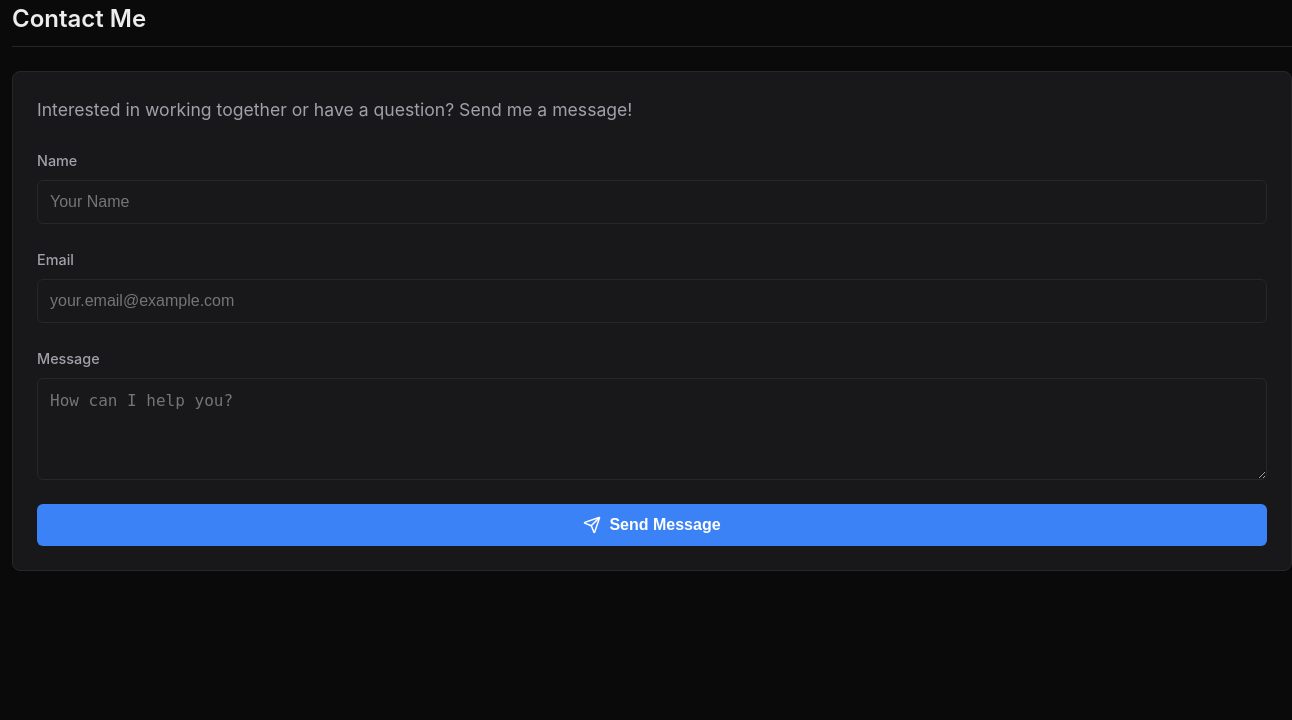
Scenario: Contact Component › shows success message on successful form submission
Type "John Doe" into the field with test id "contact-name".
click(652, 202); type("John Doe")  # box [37,180,1267,224]
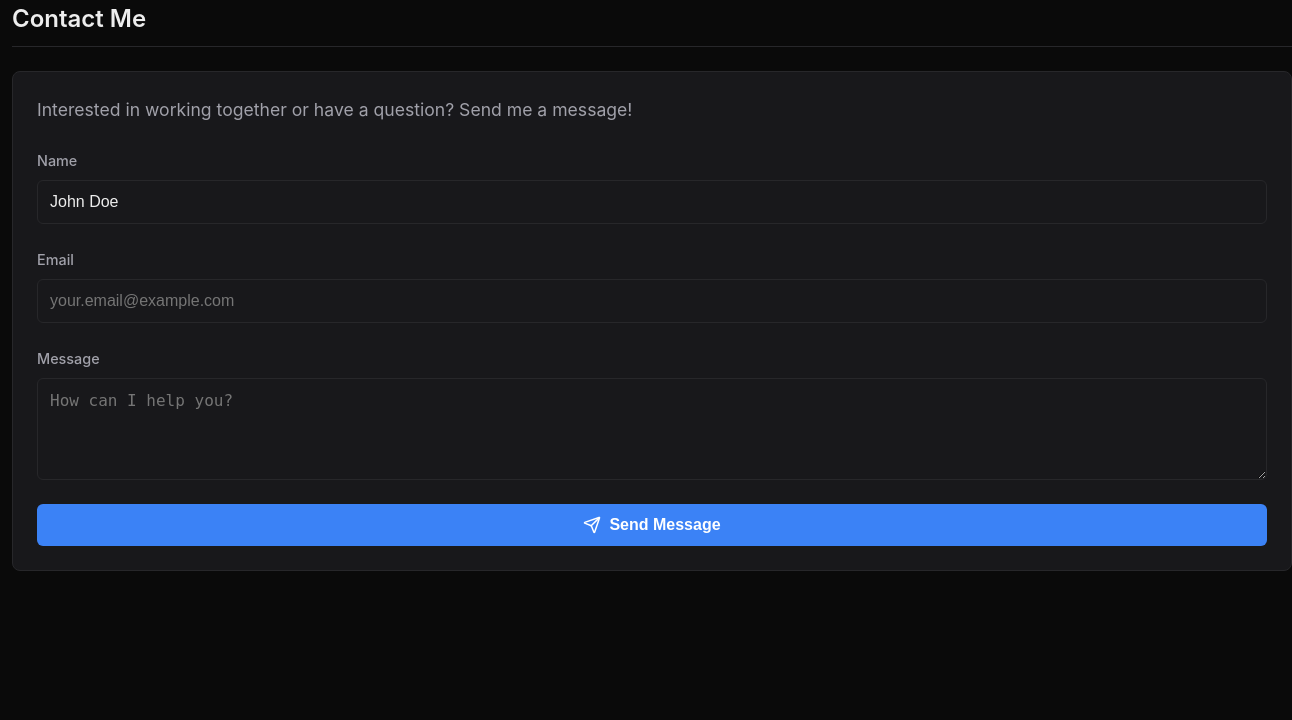
Type "john@example.com" into the field with test id "contact-email".
click(652, 301); type("john@example.com")  # box [37,279,1267,323]
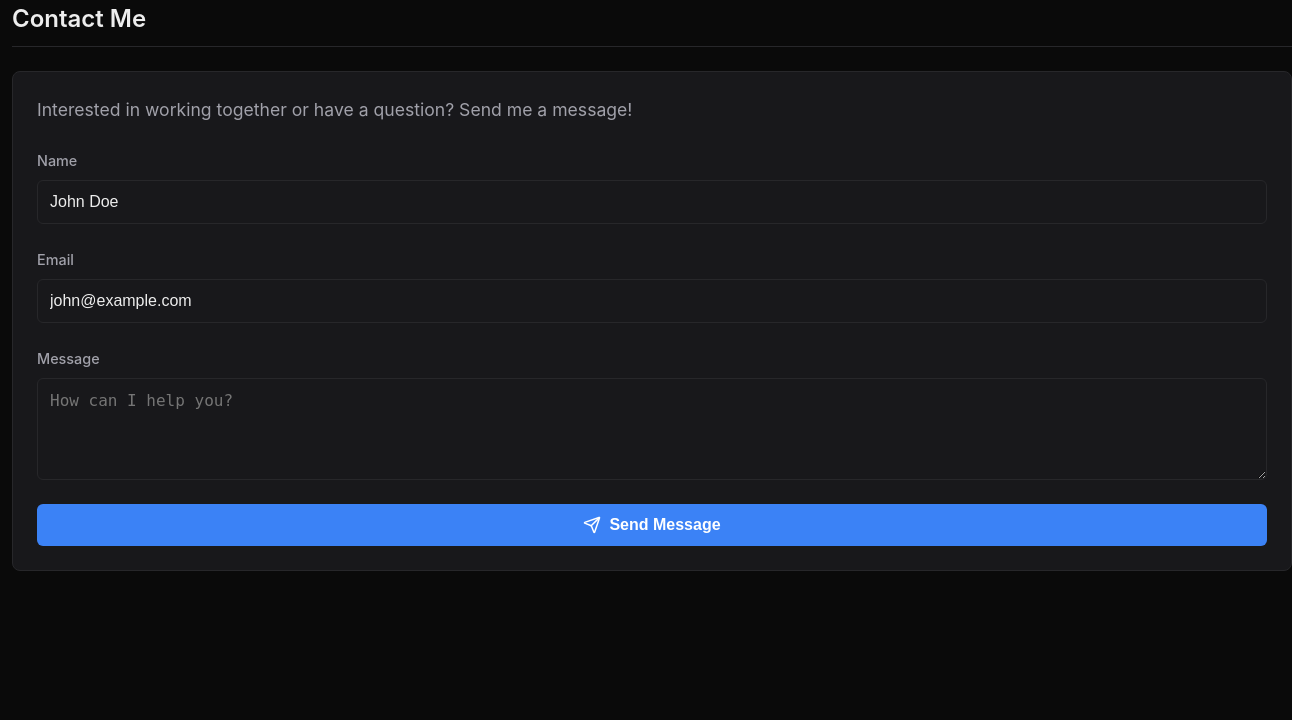
Type "Hello" into the text box with test id "contact-message".
click(652, 429); type("Hello")  # box [37,378,1267,480]
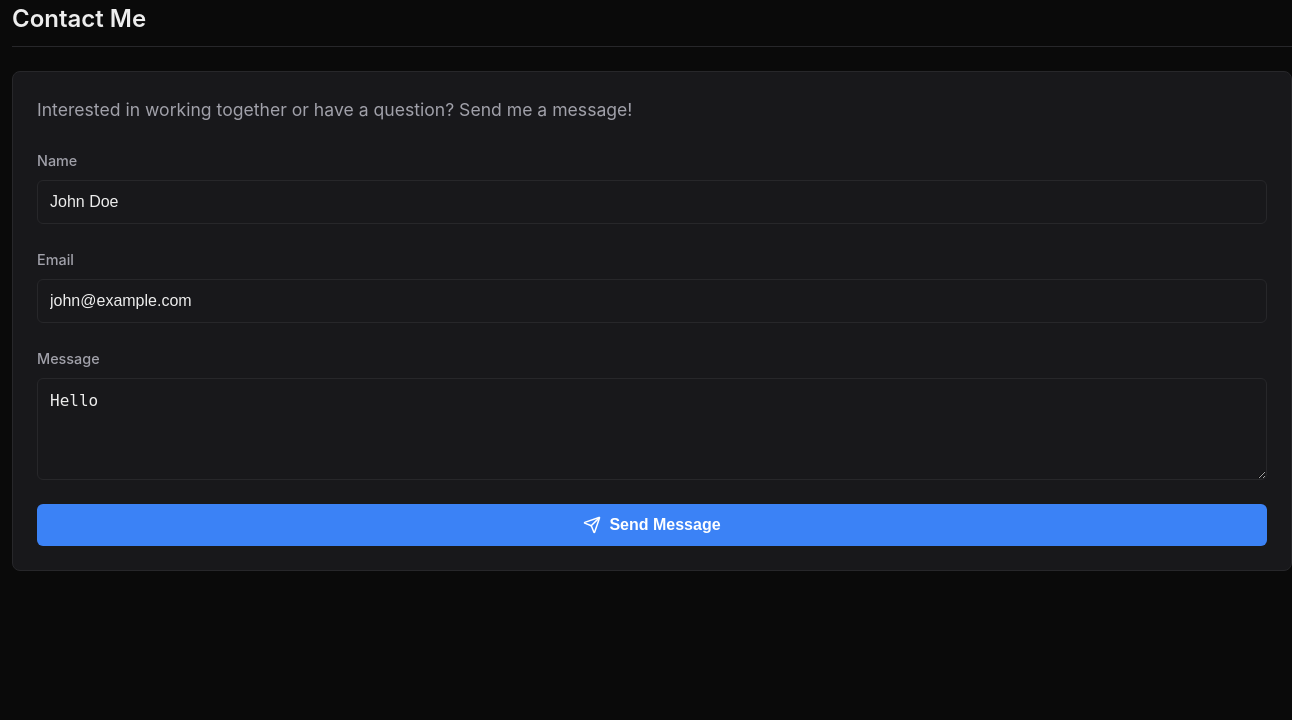
Click the button with test id "contact-submit".
click(652, 525)  # box [37,504,1267,546]
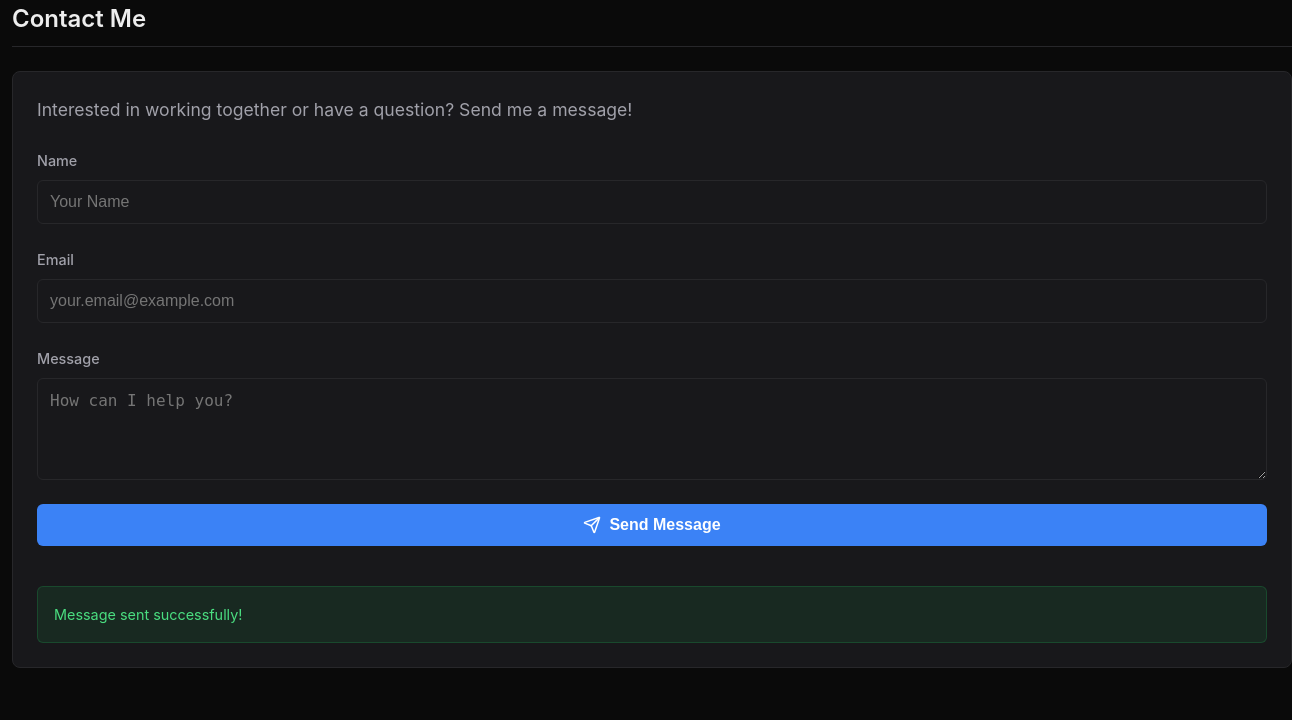
Now the text with test id "contact-status-message" reads "Message sent successfully!", box [54,606,242,623]
